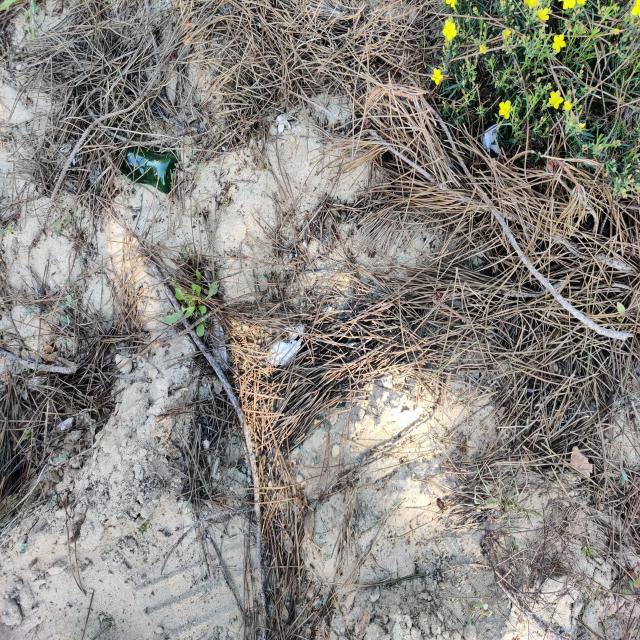litter: (115, 140, 180, 194), (266, 324, 307, 369)
